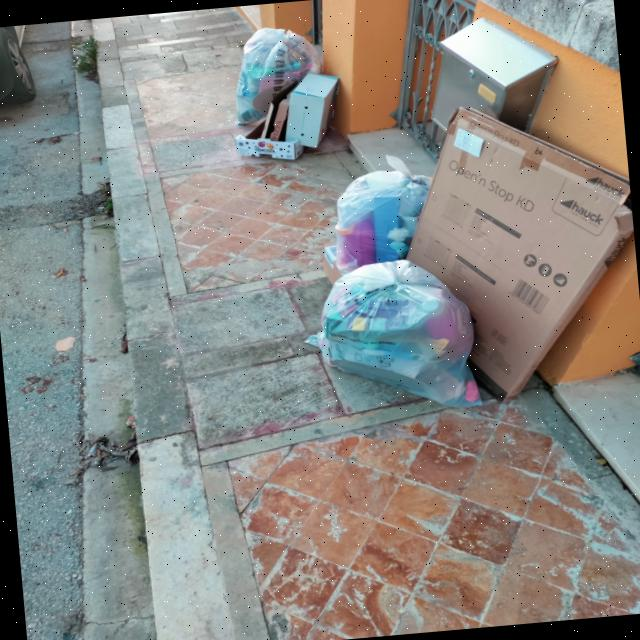Other Waste: (398, 87, 640, 414), (227, 72, 349, 176)
Recyclable Material: (310, 254, 490, 426), (310, 151, 442, 287), (230, 12, 328, 128)
